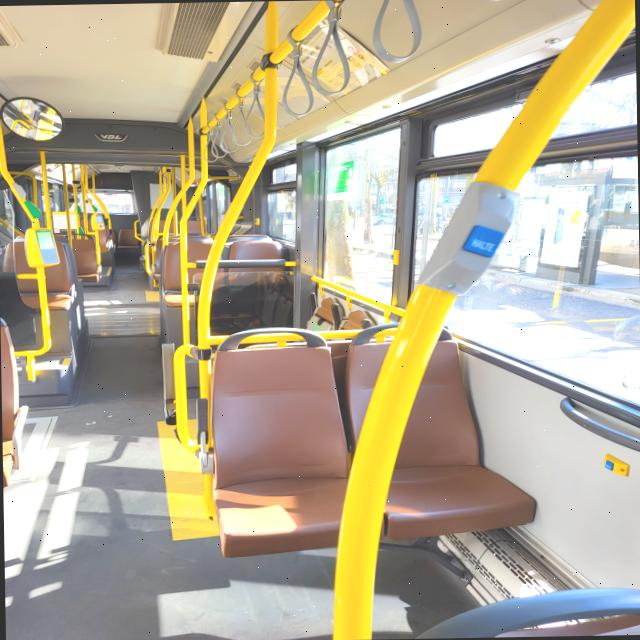empty-seat-frontal: (334, 312, 540, 542), (196, 323, 381, 560), (116, 225, 137, 249)
